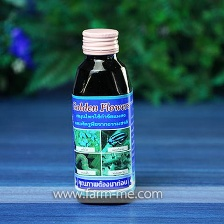insecticide: (66, 24, 142, 208)
